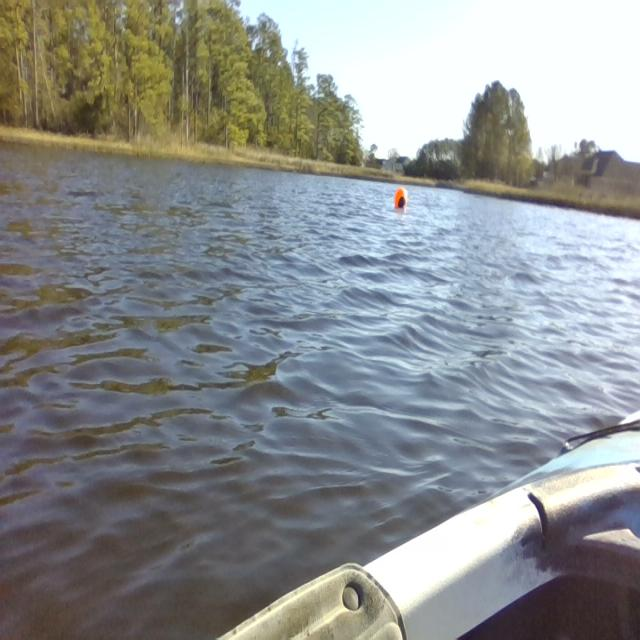Buoy: (392, 183, 412, 219)
